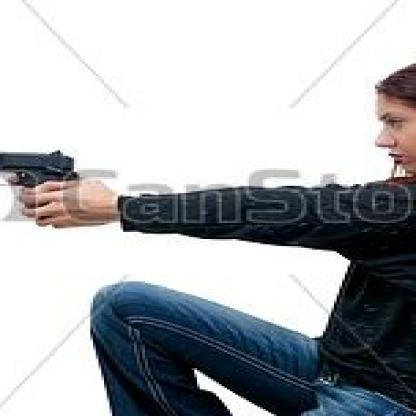gun: (0, 145, 82, 230)
